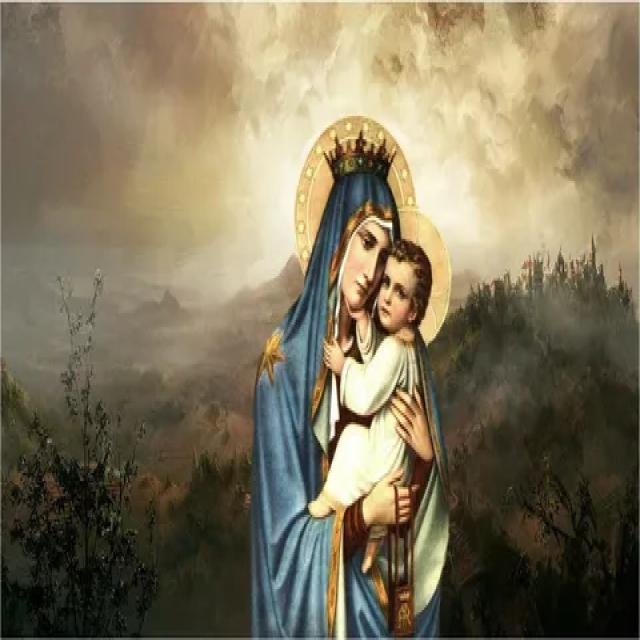mother of god: (242, 168, 454, 640)
